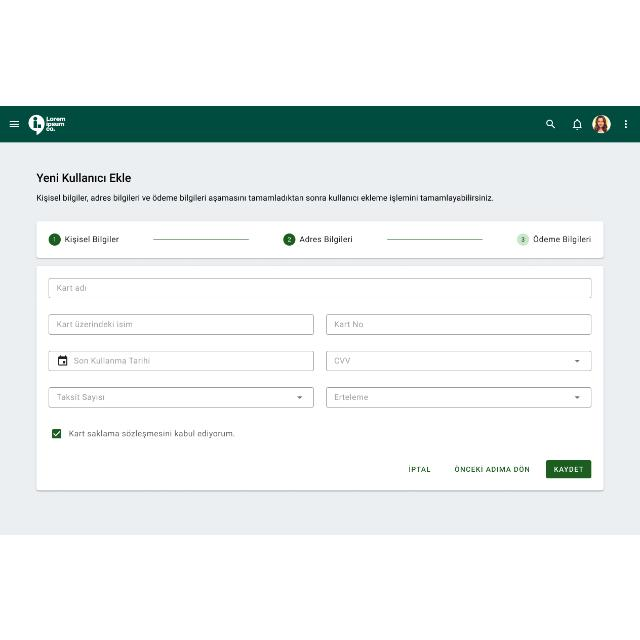QLabel: (36, 192, 494, 202), (68, 428, 236, 438), (36, 171, 134, 185), (454, 465, 530, 473), (532, 233, 592, 243), (64, 234, 120, 243), (299, 234, 353, 242), (406, 464, 430, 472), (554, 466, 584, 472)
VAppBar: (0, 106, 640, 142)
VAvatar: (591, 115, 611, 134)
VBtn: (546, 458, 592, 478)
VCheckbox: (51, 428, 63, 438)
VCombobox: (48, 386, 314, 408), (326, 386, 592, 408), (326, 350, 592, 370)
VDivider: (386, 237, 482, 240), (153, 238, 250, 240)
VIcon: (572, 118, 582, 128), (546, 119, 556, 128), (10, 120, 20, 128), (624, 119, 628, 127)
VImg: (26, 114, 66, 134)
VInlineDatepicker: (48, 348, 314, 372)
VStepper: (32, 216, 610, 498)
VTextField: (48, 276, 592, 298), (48, 313, 314, 335), (326, 313, 592, 335)
